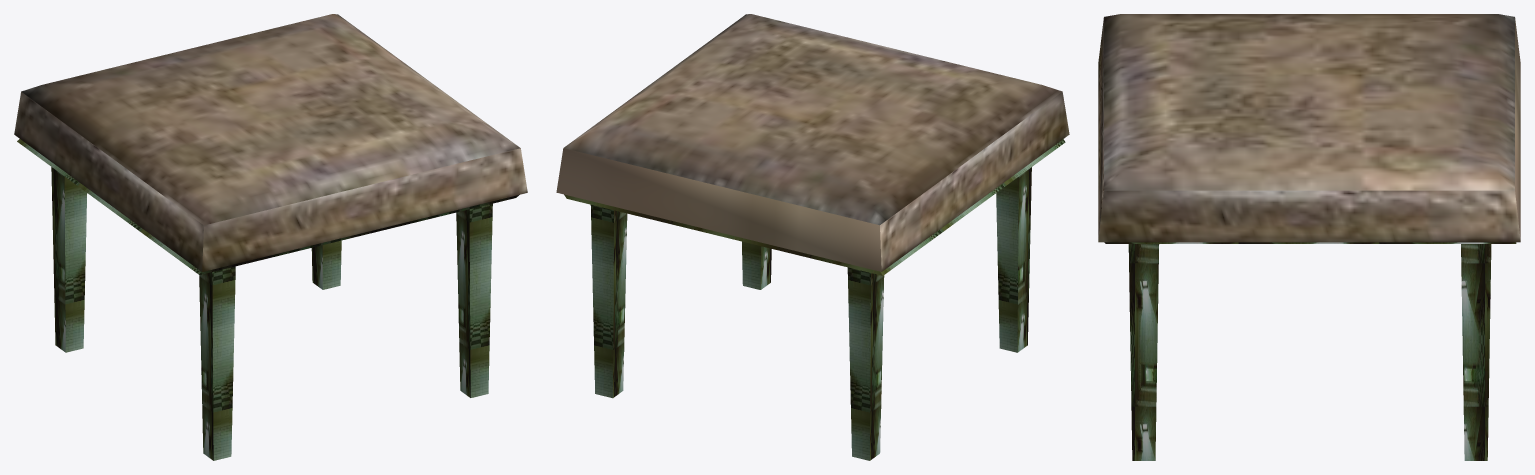
Rendered from MESITA.fbx.
3 views of the same model, side by side, from view 1: azimuth 30°, elevation 25°; view 2: azimuth 150°, elevation 25°; view 3: azimuth 270°, elevation 25° (orthographic). The views are drawn at different scales.
Parts seen in each view (by area): view 1: mesita; view 2: mesita; view 3: mesita.
Boxes of the visible parts, x1,y1,x2,y2 form: mesita: (14, 14, 527, 460); mesita: (556, 14, 1069, 460); mesita: (1098, 14, 1520, 460).
Size of the model in its own units: 111 by 87.2 by 111.
